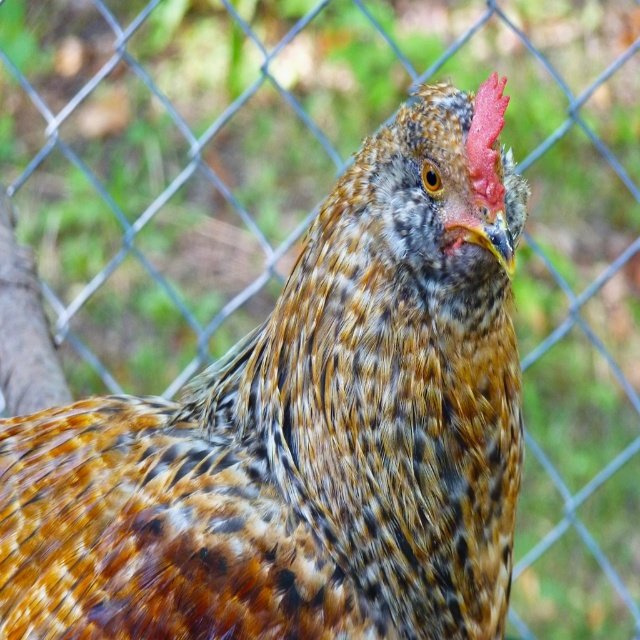Chicken: (0, 71, 533, 640)
